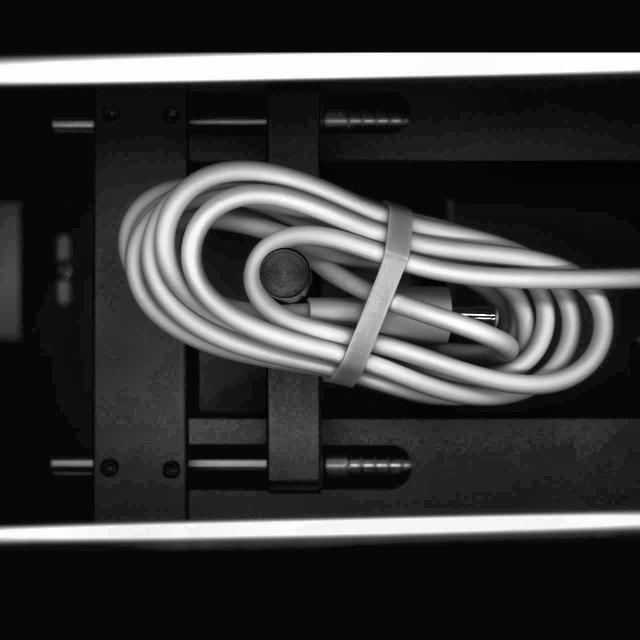Cable: (113, 157, 640, 410)
